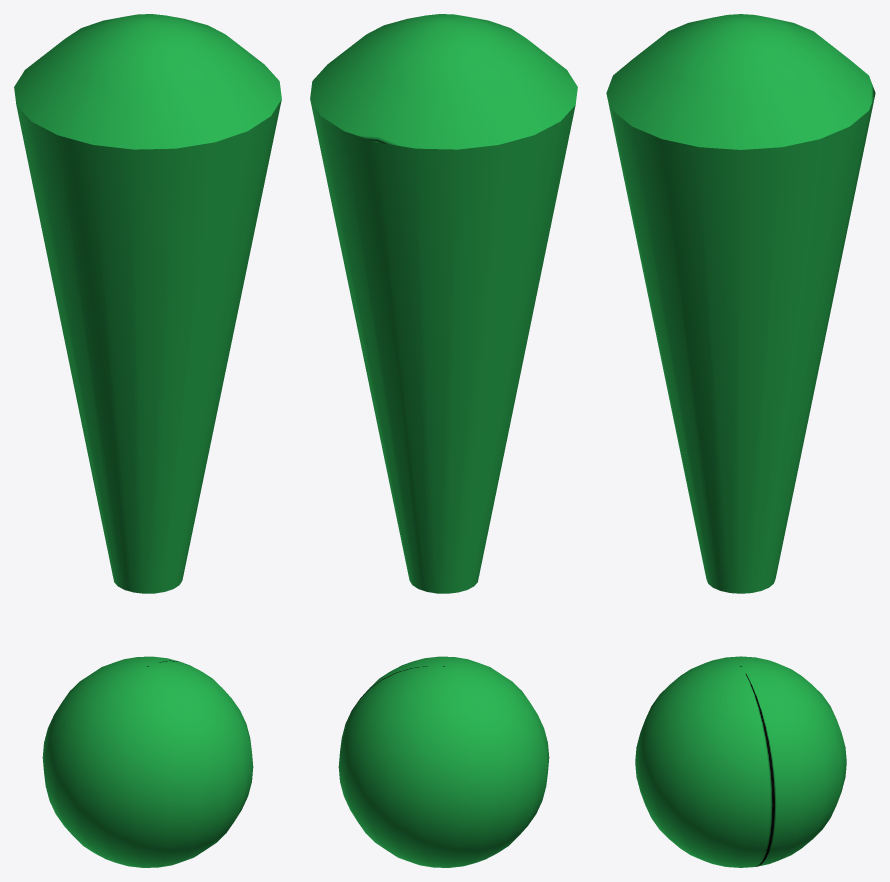
The model's file is dani.fbx.
3 renders of one model, left to right at view 1: azimuth 30°, elevation 25°; view 2: azimuth 150°, elevation 25°; view 3: azimuth 270°, elevation 25°, orthographic.
Parts seen in each view (by area): view 1: pCylinder1, pSphere1; view 2: pCylinder1, pSphere1; view 3: pCylinder1, pSphere1.
Boxes of the visible parts, x1=… form: pCylinder1: x1=14, y1=14, x2=281, y2=593; pSphere1: x1=42, y1=656, x2=253, y2=867; pCylinder1: x1=310, y1=14, x2=577, y2=593; pSphere1: x1=338, y1=656, x2=549, y2=867; pCylinder1: x1=606, y1=14, x2=875, y2=593; pSphere1: x1=635, y1=656, x2=846, y2=867.
Size of the model in its own units: 1.2 by 4.12 by 1.2.
